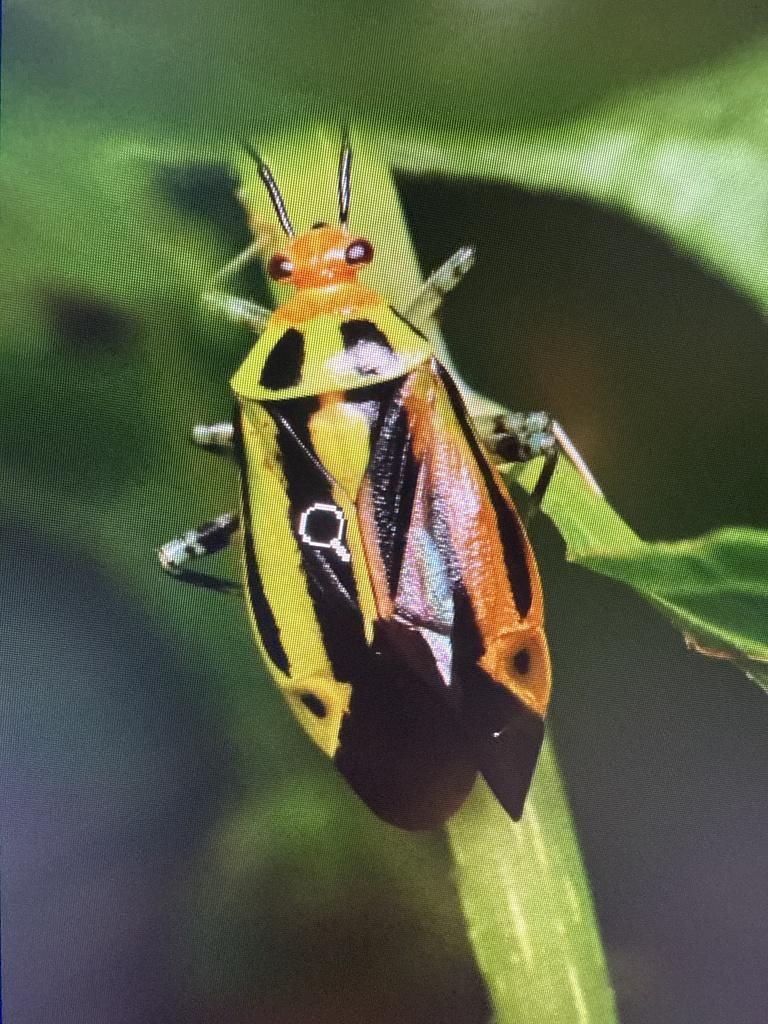plant_bugs: (91, 76, 710, 894)
